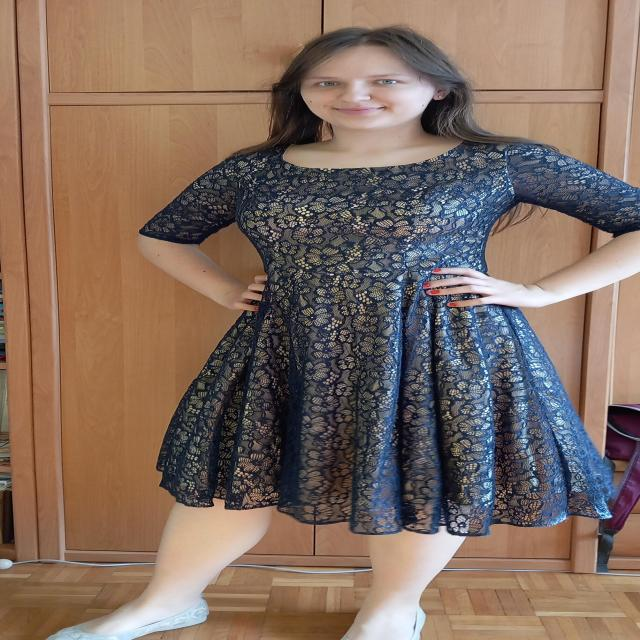dress: (139, 136, 640, 537)
